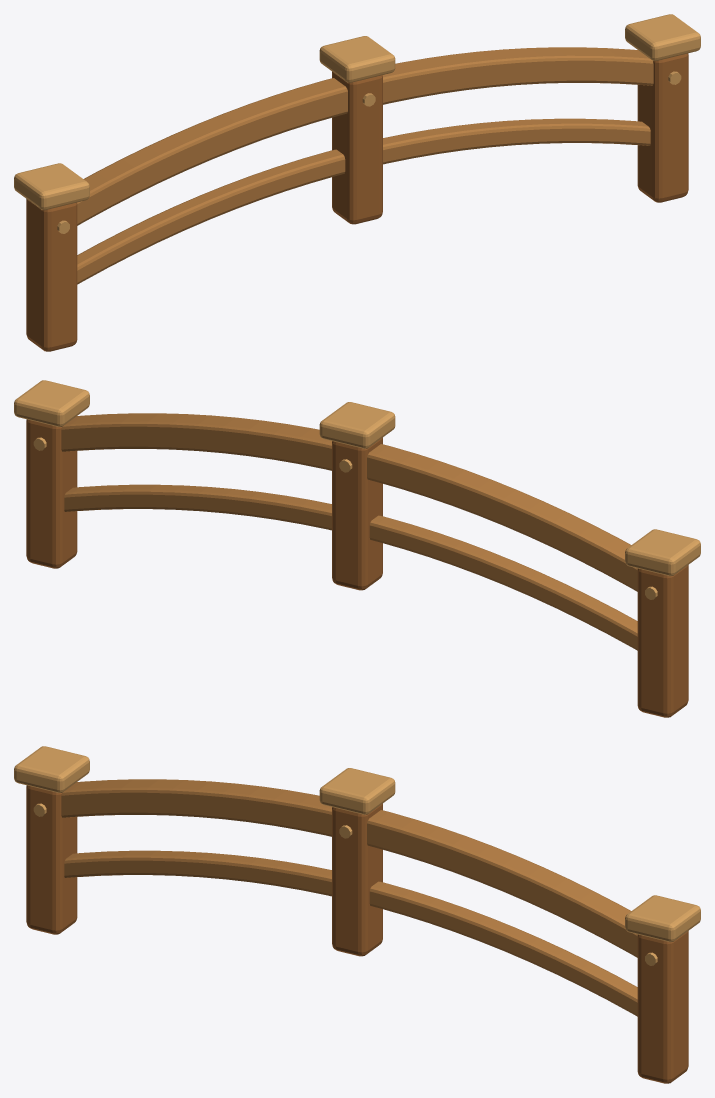
File: ponte-guarda-corpo.glb
The picture shows the model from 3 angles, top to bottom: view 1: azimuth 30°, elevation 25°; view 2: azimuth 150°, elevation 25°; view 3: azimuth 330°, elevation 25°; orthographic projection.
Visible parts, largest first — view 1: ponte-guarda-corpo; view 2: ponte-guarda-corpo; view 3: ponte-guarda-corpo.
Part boxes in pixels (box(x1,y1,x2,y2)): ponte-guarda-corpo: box(14, 14, 700, 351); ponte-guarda-corpo: box(14, 380, 700, 717); ponte-guarda-corpo: box(14, 746, 700, 1083).
Bounding box in the file's own units: 3.57 × 1.13 × 0.28.
